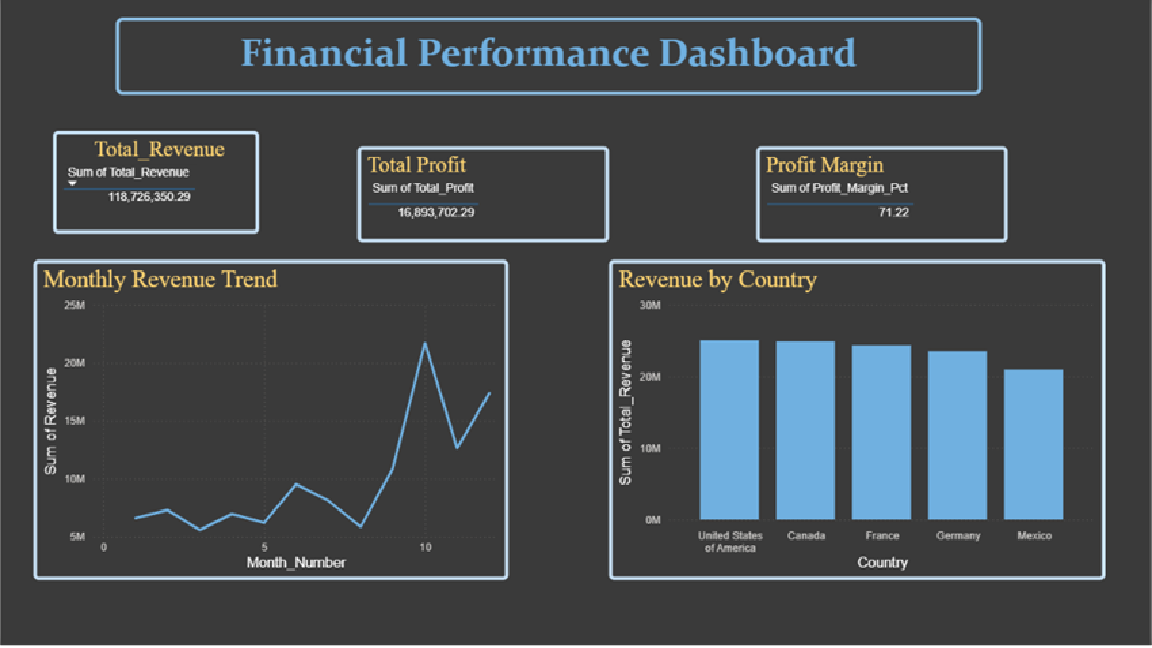

This screenshot's page, from the dashboard's own definition file:
{"tool":"powerbi","page":{"name":"Executive Summary","canvas":[1280,720],"ordinal":0},"visuals":[{"type":"tableEx","title":"Total Profit","fields":{"Values":["Sum(revenue_by_country.Total_Profit)"]},"box":[396.9,166.5,279.9,106.2],"z":0},{"type":"tableEx","title":"Profit Margin","fields":{"Values":["Sum(revenue_by_country.Profit_Margin_Pct)"]},"box":[840.9,166.5,279.9,106.2],"z":1000},{"type":"textbox","box":[127.9,24.1,963.9,85.7],"z":2000},{"type":"tableEx","title":"Total_Revenue","fields":{"Values":["Sum(revenue_by_country.Total_Revenue)"]},"box":[57.9,149.6,229.2,113.4],"z":3000},{"type":"lineChart","title":"Monthly Revenue Trend","fields":{"Category":["monthly_pl.Month_Number"],"Y":["Sum(monthly_pl.Revenue)"]},"box":[36.2,292,528.4,354.7],"z":4000},{"type":"clusteredColumnChart","title":"Revenue by Country","fields":{"Category":["revenue_by_country.Country"],"Y":["Sum(revenue_by_country.Total_Revenue)"]},"box":[676.8,292,552.5,354.7],"z":5000}]}

Visuals, with their boxes in screenshot pixels (x1, y1, x2, y2), scaled from the page's 1280x720 canvas onto the 1152x648 screenshot:
"Total Profit" tableEx: [357, 150, 609, 245]
"Profit Margin" tableEx: [757, 150, 1009, 245]
textbox: [115, 22, 983, 99]
"Total_Revenue" tableEx: [52, 135, 258, 237]
"Monthly Revenue Trend" lineChart: [33, 263, 508, 582]
"Revenue by Country" clusteredColumnChart: [609, 263, 1106, 582]
